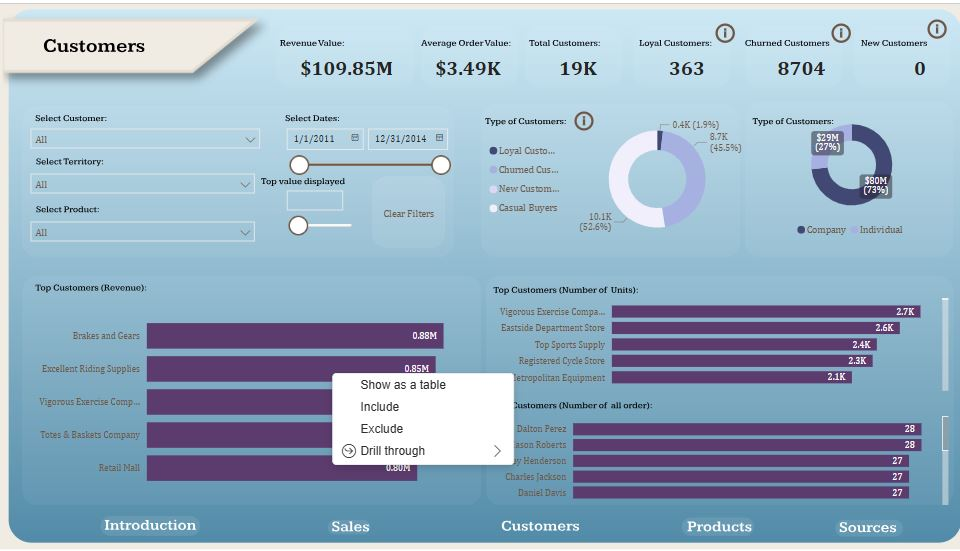

This screenshot's page, from the dashboard's own definition file:
{"tool":"powerbi","page":{"name":"Customer","canvas":[1280,720],"ordinal":2},"visuals":[{"type":"actionButton","box":[892,670,114,35],"z":0},{"type":"actionButton","box":[1101.6,665,94,36.9],"z":2000},{"type":"actionButton","box":[136.7,665,136.7,36.7],"z":3000},{"type":"actionButton","box":[430,670,55,31.7],"z":4000},{"type":"slicer","fields":{"Values":["Parametr.Parametr"]},"box":[365.3,236.2,119.4,75.5],"z":5000},{"type":"slicer","fields":{"Values":["Product.ProductName"]},"box":[32.1,276,315.2,40.4],"z":6000},{"type":"slicer","fields":{"Values":["Customer.CustomerName"]},"box":[32.1,154.6,322.4,46.4],"z":7000},{"type":"slicer","fields":{"Values":["calendar.Date"]},"box":[365.3,154.5,236.2,76.4],"z":8000},{"type":"actionButton","box":[496.1,235.5,86.8,80.9],"z":9000},{"type":"clusteredBarChart","fields":{"Category":["Customer.CustomerName"],"Y":["_Measure.TopN Filtered SalesClients"]},"box":[32.1,390.2,600.7,261.7],"z":10000},{"type":"donutChart","fields":{"Category":["Customer.CustomerType"],"Y":["_Measure.AllSalesProductSum"]},"box":[989.6,137,265.2,179.1],"z":11000},{"type":"clusteredBarChart","fields":{"Category":["Customer.CustomerName"],"Y":["_Measure.TopN Filtered SalesOrderClients"]},"box":[640,530.6,615,134.4],"z":12000},{"type":"slicer","fields":{"Values":["Territory.CountryRegionCode"]},"box":[32.1,212.9,315.2,46.4],"z":13000},{"type":"donutChart","fields":{"Y":["Customer.LoyalCustomers","_Measure.ChurnedCustomers","_Measure.NewCustomers","_Measure.Casual Buyers"]},"box":[640.1,137,350.3,187],"z":14000},{"type":"card","fields":{"Values":["Customer.LoyalCustomers"]},"box":[843.7,50,123.5,68.9],"z":15000},{"type":"card","fields":{"Values":["_Measure.NewCustomers"]},"box":[1160.6,45.4,102.9,78.2],"z":16000},{"type":"card","fields":{"Values":["_Measure.ChurnedCustomers"]},"box":[998.1,49,117.3,71],"z":17000},{"type":"card","fields":{"Values":["_Measure.ActiveCustomers"]},"box":[695.6,57.2,133.8,54.5],"z":18000},{"type":"card","fields":{"Values":["_Measure.Total revenue"]},"box":[365.6,45.4,183.3,78.1],"z":19000},{"type":"card","fields":{"Values":["_Measure.AverageOrder"]},"box":[547.9,52.9,139.2,63.1],"z":20000},{"type":"actionButton","box":[1218.1,15.5,36.9,34.5],"z":21000},{"type":"actionButton","box":[938.8,21.2,37.6,34.7],"z":22000},{"type":"actionButton","box":[1090.6,21.2,37.6,34.7],"z":23000},{"type":"actionButton","box":[752.5,137,38.6,34.2],"z":24000},{"type":"clusteredBarChart","fields":{"Category":["Customer.CustomerName"],"Y":["_Measure.TopN Filtered Units"]},"box":[640,374.7,615,139.2],"z":25000}]}

Visuals, with their boxes in screenshot pixels (x1, y1, x2, y2), scaled from the page's 1280x720 canvas onto the 960x551 screenshot:
actionButton: 669,513,754,540
actionButton: 826,509,897,537
actionButton: 103,509,205,537
actionButton: 322,513,364,537
slicer - Parametr.Parametr: 274,181,364,239
slicer - Product.ProductName: 24,211,260,242
slicer - Customer.CustomerName: 24,118,266,154
slicer - calendar.Date: 274,118,451,177
actionButton: 372,180,437,242
clusteredBarChart - Customer.CustomerName x _Measure.TopN Filtered SalesClients: 24,299,475,499
donutChart - Customer.CustomerType x _Measure.AllSalesProductSum: 742,105,941,242
clusteredBarChart - Customer.CustomerName x _Measure.TopN Filtered SalesOrderClients: 480,406,941,509
slicer - Territory.CountryRegionCode: 24,163,260,198
donutChart - Customer.LoyalCustomers x _Measure.ChurnedCustomers: 480,105,743,248
card - Customer.LoyalCustomers: 633,38,725,91
card - _Measure.NewCustomers: 870,35,948,95
card - _Measure.ChurnedCustomers: 749,37,837,92
card - _Measure.ActiveCustomers: 522,44,622,85
card - _Measure.Total revenue: 274,35,412,95
card - _Measure.AverageOrder: 411,40,515,89
actionButton: 914,12,941,38
actionButton: 704,16,732,43
actionButton: 818,16,846,43
actionButton: 564,105,593,131
clusteredBarChart - Customer.CustomerName x _Measure.TopN Filtered Units: 480,287,941,393
